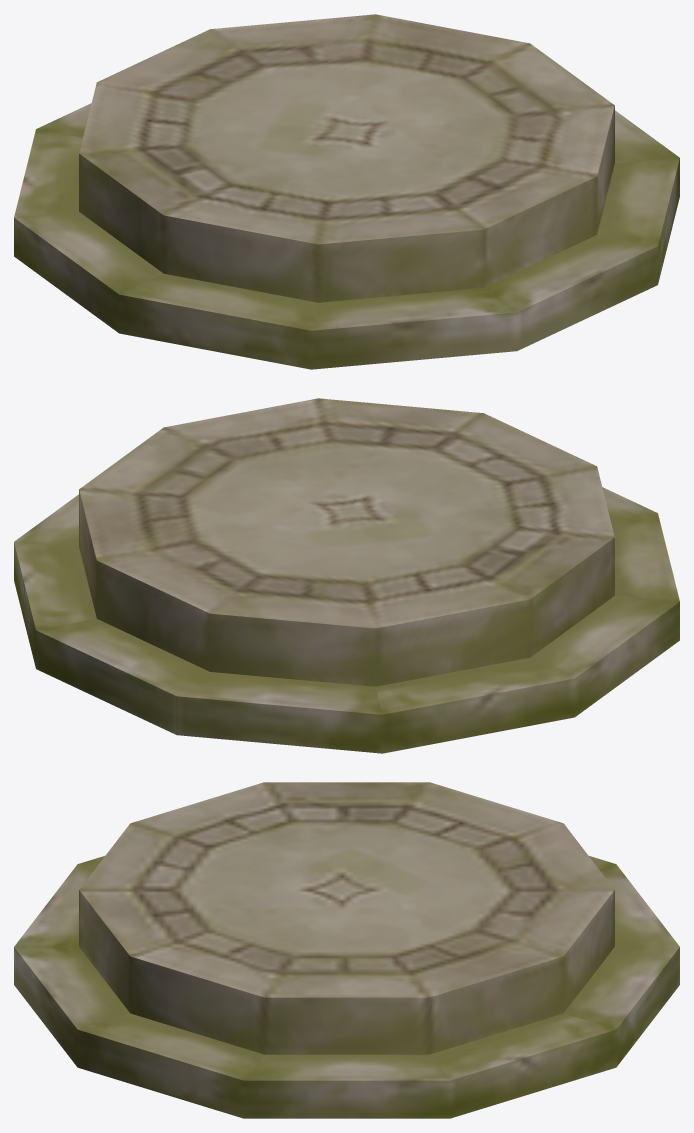
File: swamp_temple_2.FBX
3 views of the same model, one above another, from view 1: azimuth 30°, elevation 25°; view 2: azimuth 150°, elevation 25°; view 3: azimuth 270°, elevation 25° (orthographic). The views are drawn at different scales.
Parts seen in each view (by area): view 1: swamp_temple_2; view 2: swamp_temple_2; view 3: swamp_temple_2.
Part boxes in pixels (bbox=[...]): swamp_temple_2: bbox=[14, 14, 679, 369]; swamp_temple_2: bbox=[14, 398, 679, 753]; swamp_temple_2: bbox=[14, 782, 679, 1118].
Size of the model in its own units: 177 by 29.25 by 186.
